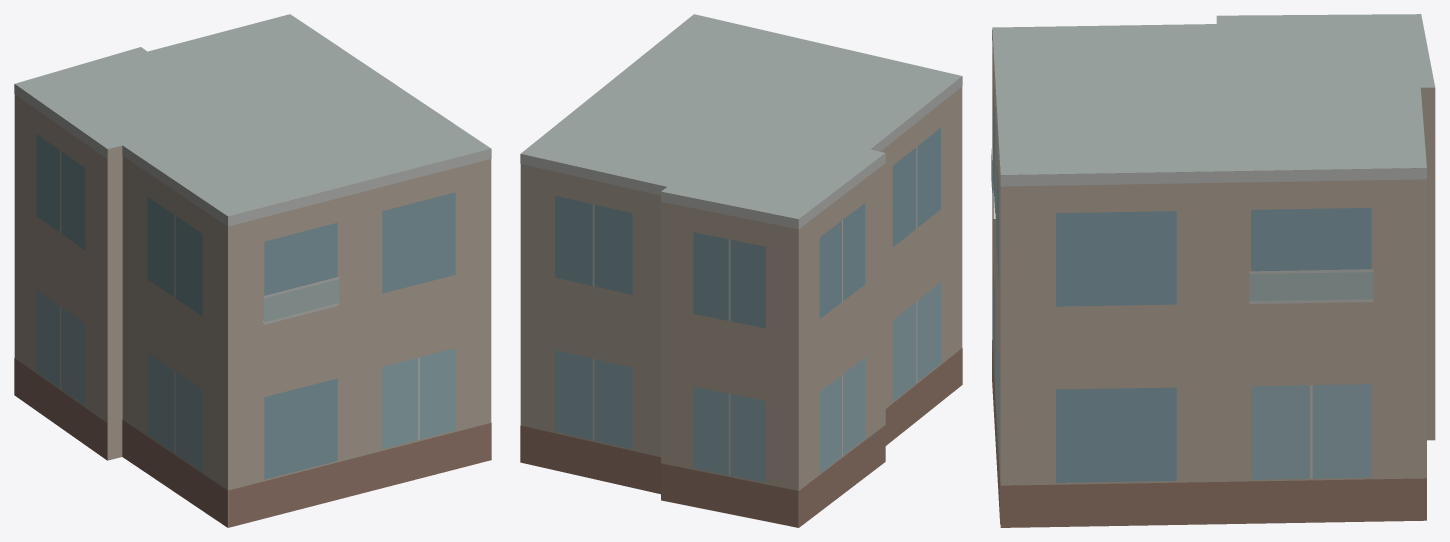
Rendered from survey-upis-32500804.glb.
The picture shows the model from 3 angles, left to right: view 1: azimuth 30°, elevation 25°; view 2: azimuth 150°, elevation 25°; view 3: azimuth 270°, elevation 25°; orthographic projection. The views are drawn at different scales.
Visible parts, largest first — view 1: survey-upis-32500804.tmp; view 2: survey-upis-32500804.tmp; view 3: survey-upis-32500804.tmp.
Part boxes in pixels (left/top/right/bottom): survey-upis-32500804.tmp: left=14, top=14, right=491, bottom=527; survey-upis-32500804.tmp: left=520, top=14, right=962, bottom=527; survey-upis-32500804.tmp: left=991, top=14, right=1435, bottom=527.
Bounding box in the file's own units: 7.35 × 7.5 × 8.56.
